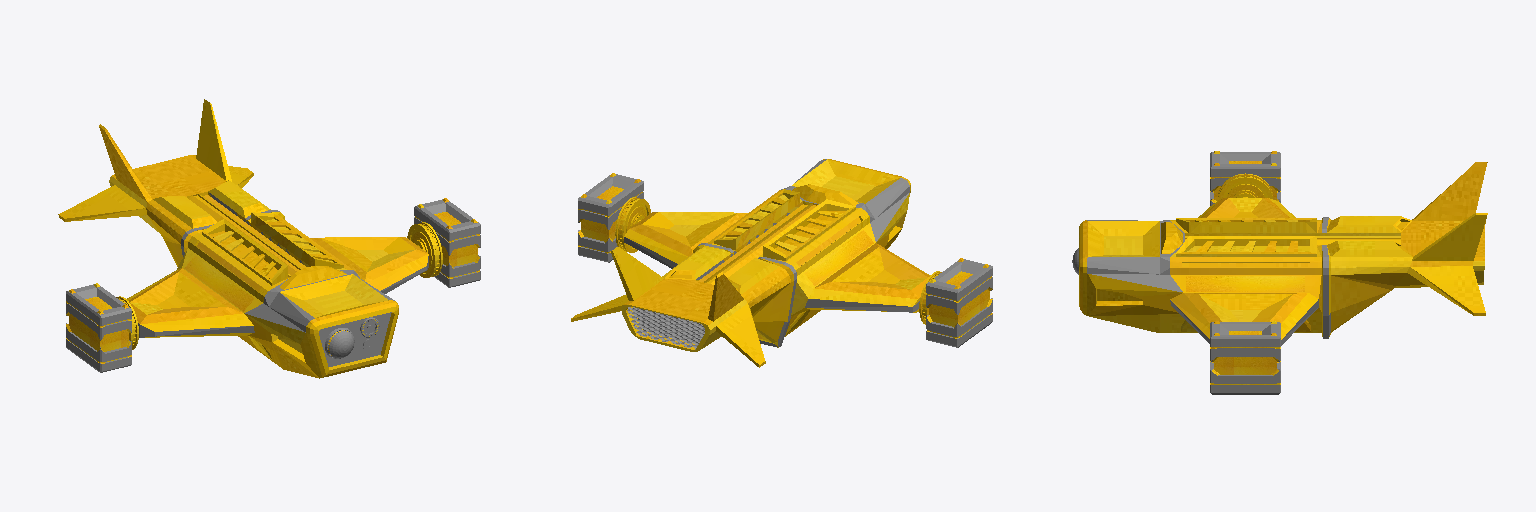
The picture shows the model from 3 angles: view 1: azimuth 30°, elevation 25°; view 2: azimuth 150°, elevation 25°; view 3: azimuth 270°, elevation 25°; orthographic projection.
Visible parts, largest first — view 1: BODY_Cube.019, dong_co_phu_Cube.024, truc_xoay_Cylinder, decal.001_color_alpha, main_camera_Cube.007; view 2: BODY_Cube.019, dong_co_phu_Cube.024, luoi_Cube.008, truc_xoay_Cylinder, decal.001_color_alpha; view 3: BODY_Cube.019, dong_co_phu_Cube.024, decal.001_color_alpha, truc_xoay_Cylinder.
Boxes of the visible parts, x1=… form: BODY_Cube.019: x1=58, y1=99, x2=428, y2=378; dong_co_phu_Cube.024: x1=66, y1=198, x2=480, y2=372; truc_xoay_Cylinder: x1=116, y1=222, x2=442, y2=349; decal.001_color_alpha: x1=184, y1=255, x2=253, y2=311; main_camera_Cube.007: x1=325, y1=317, x2=379, y2=358; BODY_Cube.019: x1=571, y1=159, x2=929, y2=367; dong_co_phu_Cube.024: x1=578, y1=173, x2=992, y2=347; luoi_Cube.008: x1=627, y1=307, x2=704, y2=349; truc_xoay_Cylinder: x1=615, y1=197, x2=941, y2=324; decal.001_color_alpha: x1=804, y1=230, x2=873, y2=285; BODY_Cube.019: x1=1079, y1=162, x2=1487, y2=345; dong_co_phu_Cube.024: x1=1210, y1=151, x2=1280, y2=394; decal.001_color_alpha: x1=1186, y1=276, x2=1304, y2=291; truc_xoay_Cylinder: x1=1218, y1=173, x2=1272, y2=200.
Size of the model in its own units: 7.74 by 2.67 by 7.3.
17 materials, 1 textured.